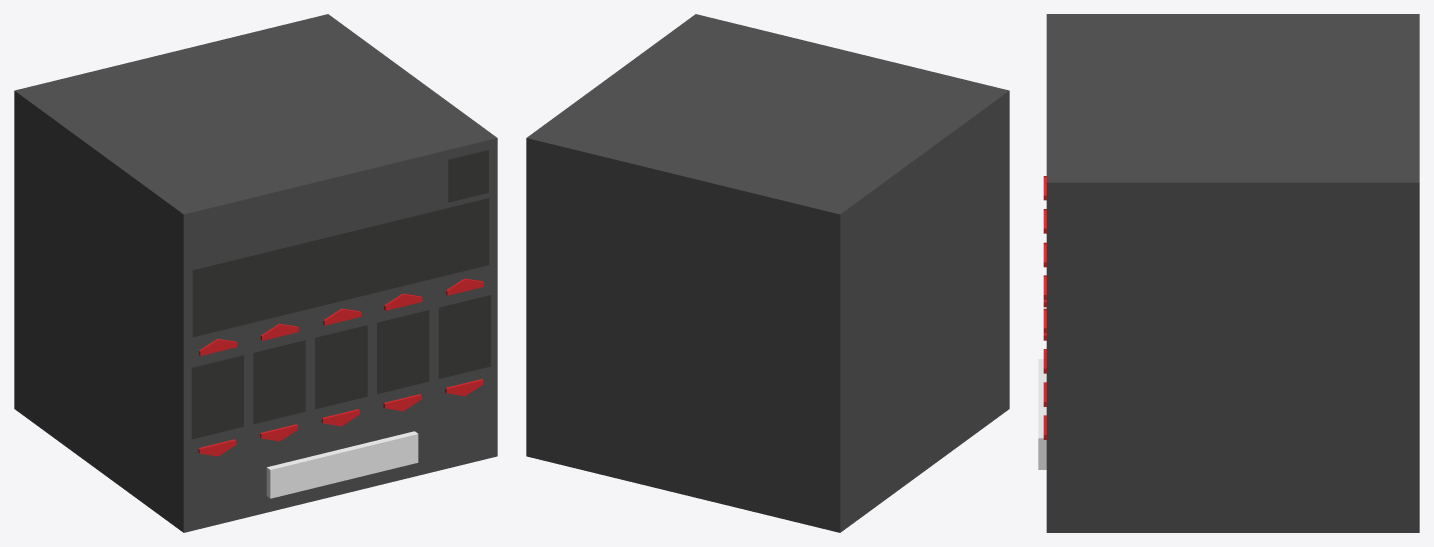
File: Tenjimodule 1.fbx
3 views of the same model, side by side, from view 1: azimuth 30°, elevation 25°; view 2: azimuth 150°, elevation 25°; view 3: azimuth 270°, elevation 25° (orthographic). The views are drawn at different scales.
Parts seen in each view (by area): view 1: モジュール本体, 点字モニター, 回答ボタン, 文字モニター2, 文字モニター4, 文字モニター3, 文字モニター1, 文字モニター5, クリアモニター; view 2: モジュール本体; view 3: モジュール本体, 回答ボタン.
Part boxes in pixels (bbox=[...]): モジュール本体: bbox=[14, 14, 497, 532]; 点字モニター: bbox=[192, 198, 489, 337]; 回答ボタン: bbox=[266, 431, 418, 498]; 文字モニター2: bbox=[253, 340, 305, 424]; 文字モニター4: bbox=[377, 310, 429, 394]; 文字モニター3: bbox=[315, 325, 367, 409]; 文字モニター1: bbox=[191, 355, 243, 439]; 文字モニター5: bbox=[438, 295, 490, 378]; クリアモニター: bbox=[448, 150, 488, 202]; モジュール本体: bbox=[526, 14, 1009, 532]; モジュール本体: bbox=[1046, 14, 1419, 532]; 回答ボタン: bbox=[1038, 359, 1046, 469].
Size of the model in its own units: 60.98 by 59.14 by 58.27.
